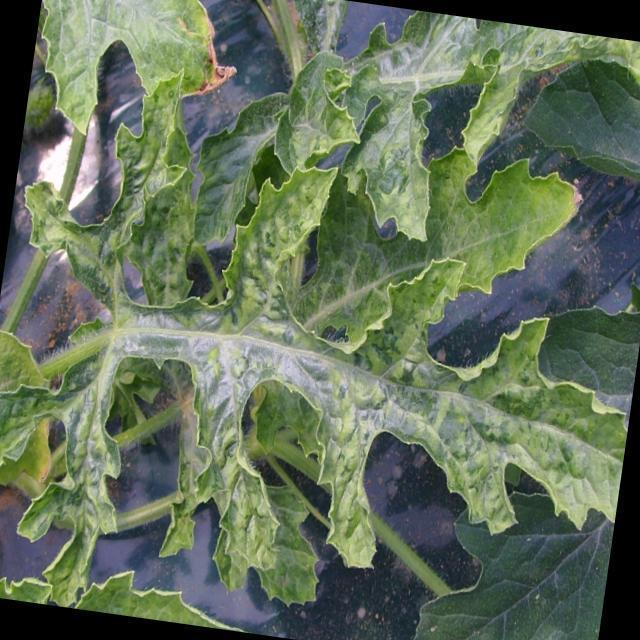Mosaic Virus: (114, 288, 616, 462), (278, 4, 485, 220), (0, 350, 133, 594), (102, 80, 206, 292), (36, 0, 220, 99)
